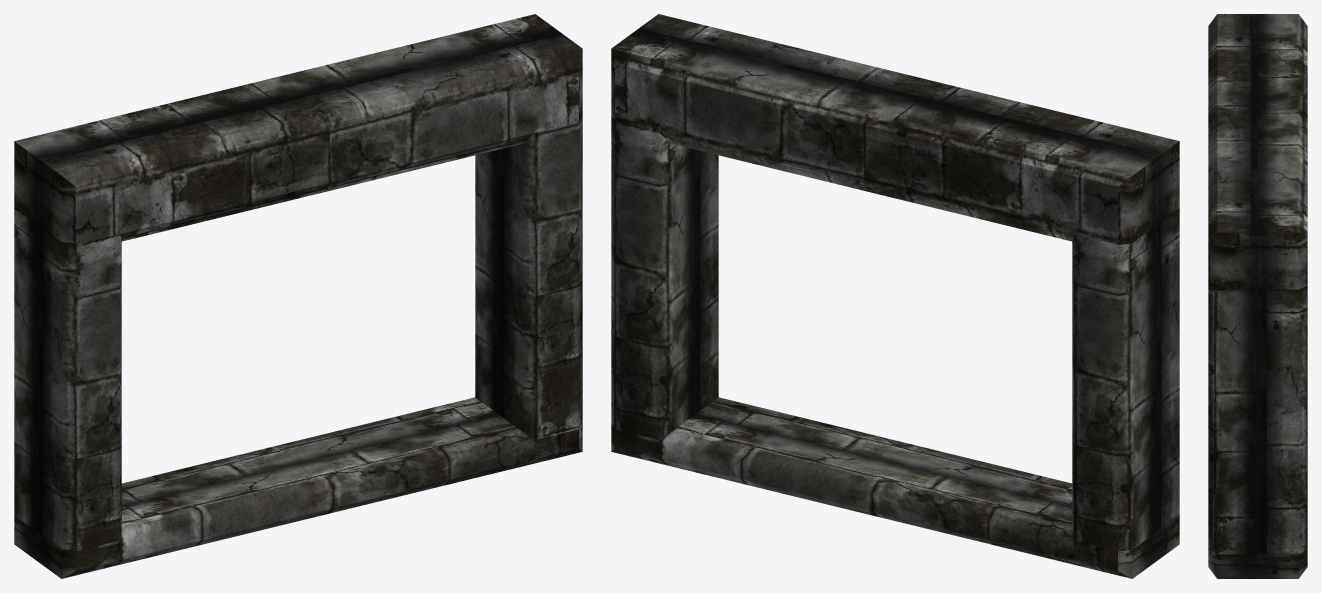
The model's file is door_frame_large.dae.
The picture shows the model from 3 angles, left to right: view 1: azimuth 30°, elevation 25°; view 2: azimuth 150°, elevation 25°; view 3: azimuth 270°, elevation 25°; orthographic projection. The views are drawn at different scales.
Visible parts, largest first — view 1: polySurface130; view 2: polySurface130; view 3: polySurface130.
Part boxes in pixels (box(x1,y1,x2,y2)): polySurface130: box(14, 14, 582, 578); polySurface130: box(611, 14, 1179, 578); polySurface130: box(1208, 14, 1307, 578).
Size of the model in its own units: 5.21 by 3.85 by 1.
